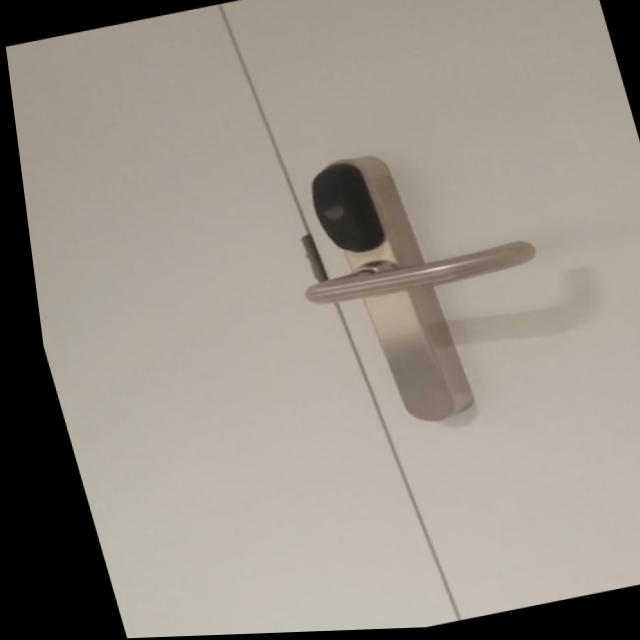door_handle: (273, 229, 543, 319)
